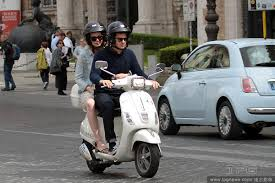helmet: (81, 19, 107, 37), (105, 20, 131, 34)
